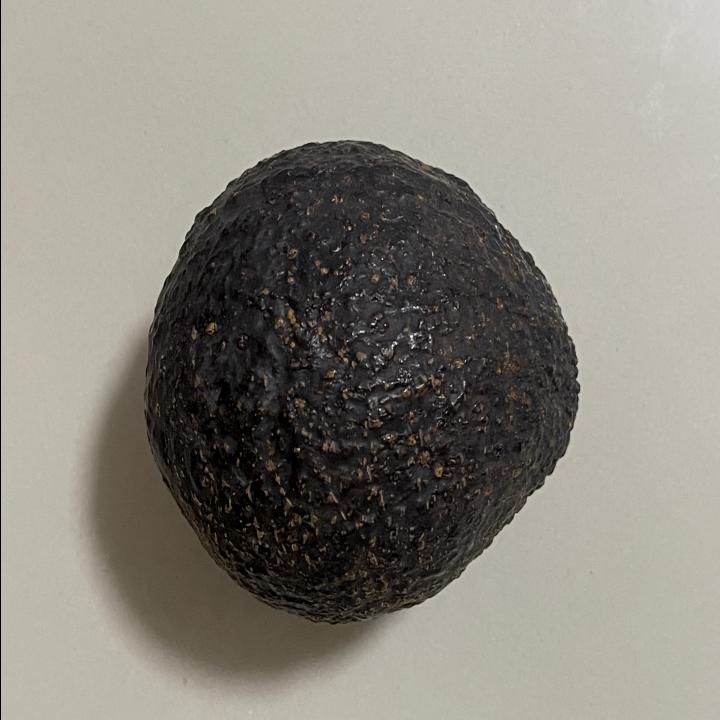Level3: (138, 126, 593, 636)
